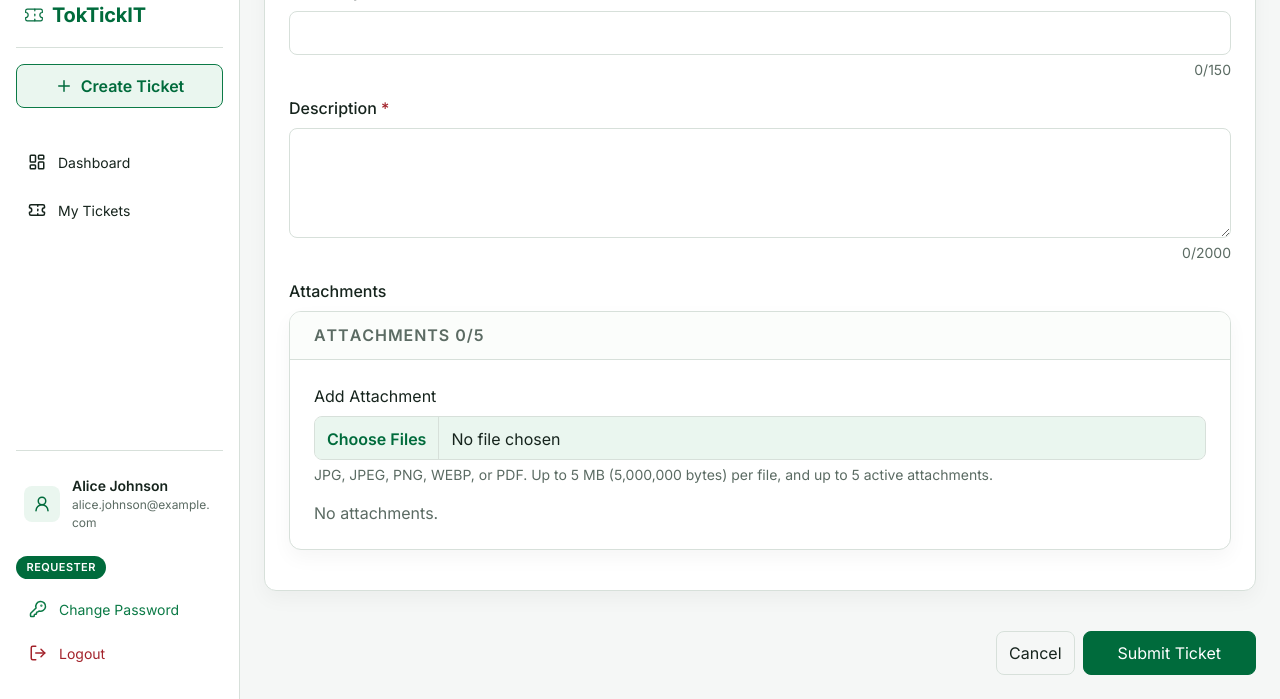
Test: Create Ticket validation › blocks submission, marks every invalid field, and focuses the first one
This screenshot has width=1280, height=699.
(page scrolled)
Click the button "Submit Ticket": click(1169, 653) x1=1082 y1=631 x2=1256 y2=675
(page scrolled)
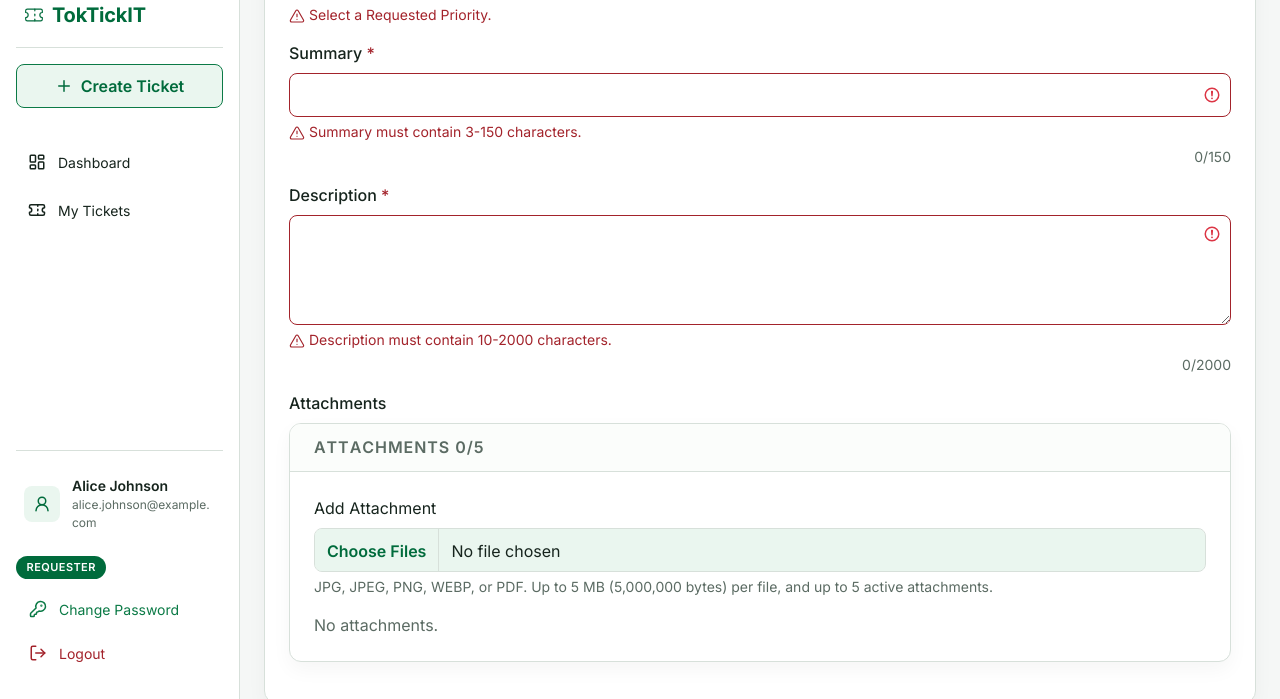
Expected: the text "Select a Requested Priority." is shown, x1=289 y1=6 x2=492 y2=24
Expected: the text "Summary must contain 3-150 characters." is shown, x1=289 y1=123 x2=582 y2=141
Expected: the text "Description must contain 10-2000 characters." is shown, x1=289 y1=331 x2=612 y2=349
